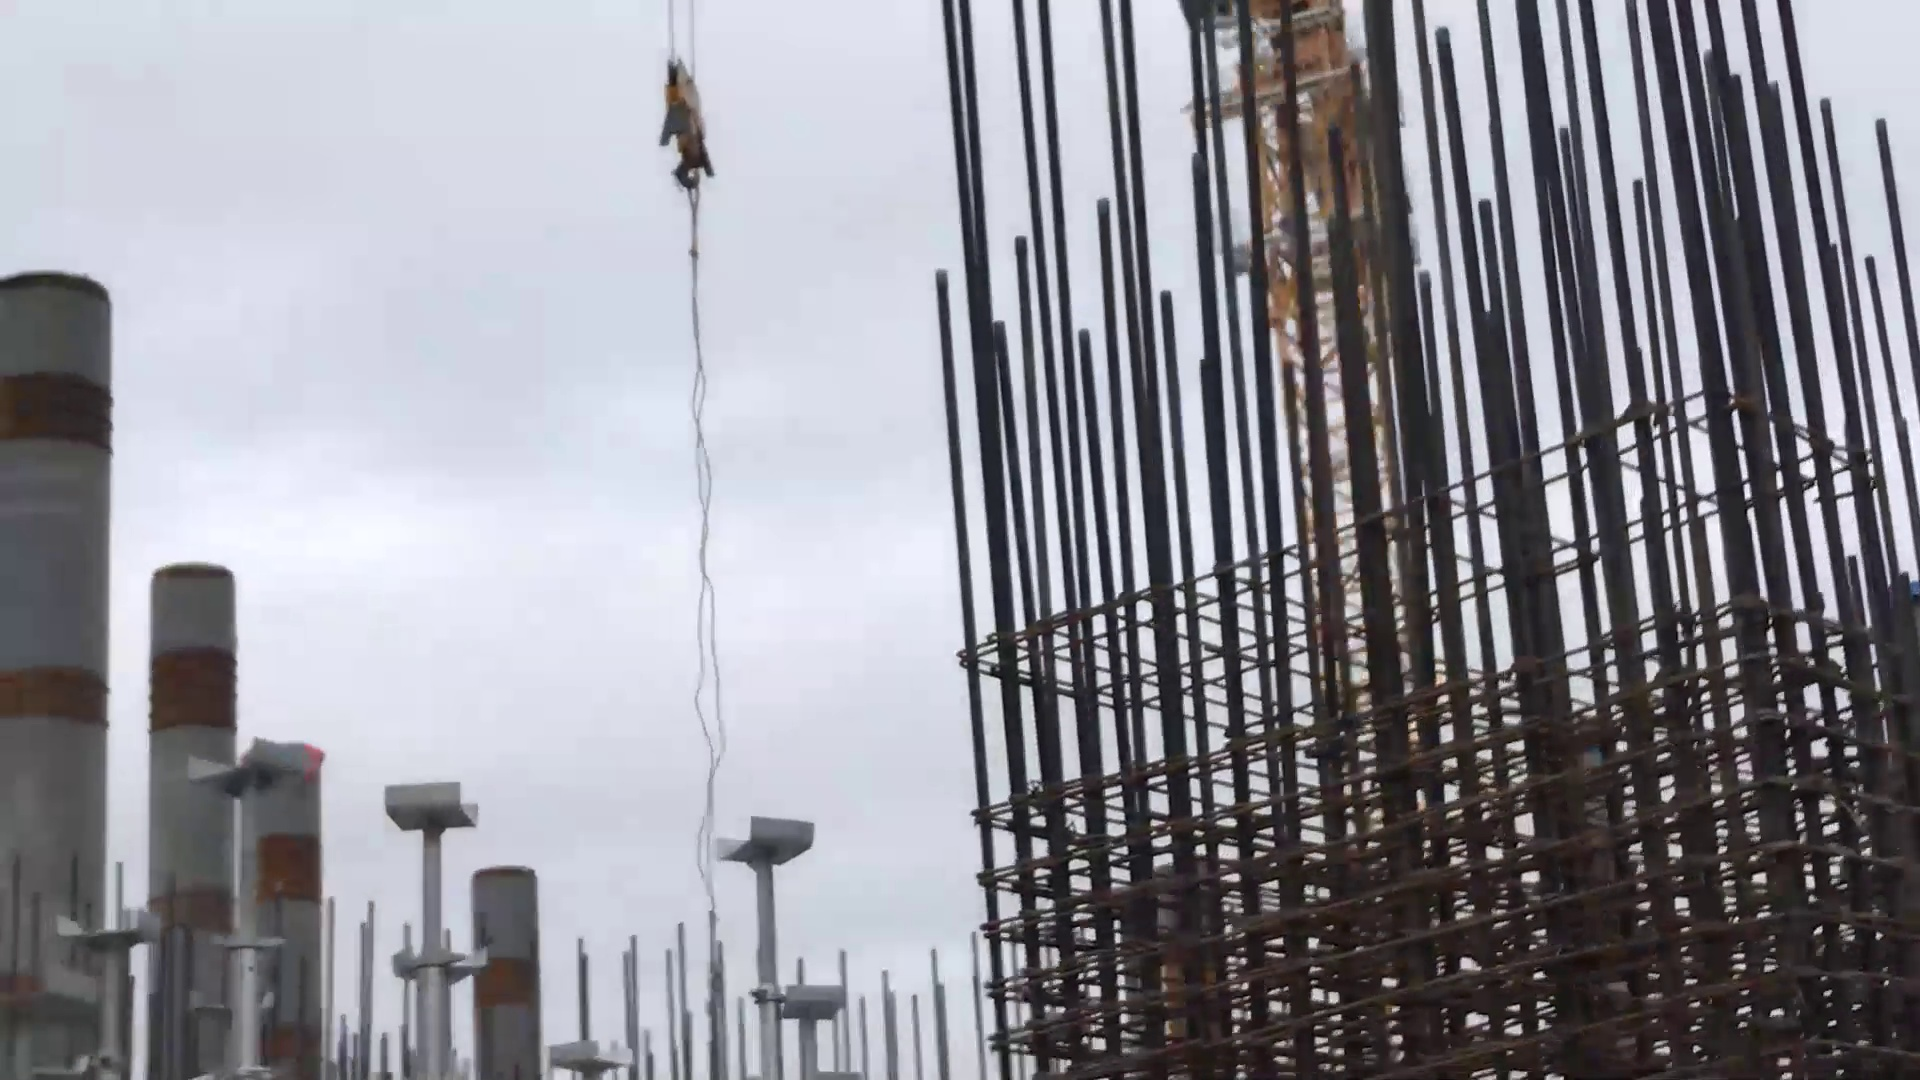hook: (640, 44, 748, 200)
